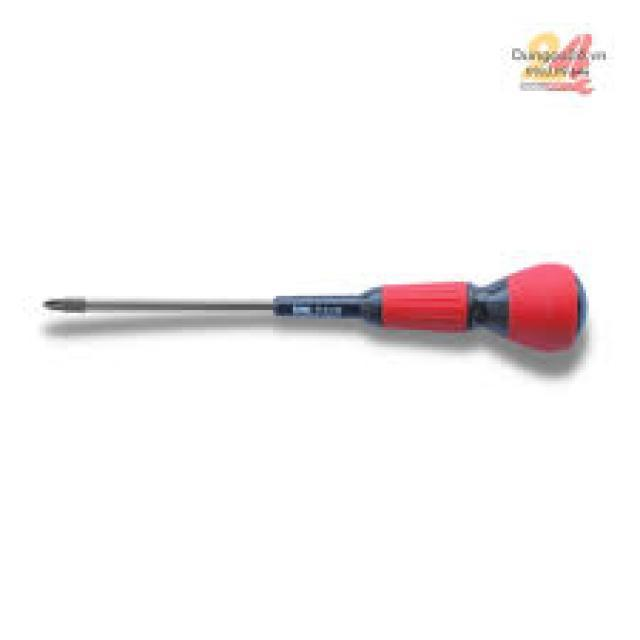screwdriver: (40, 257, 586, 357)
